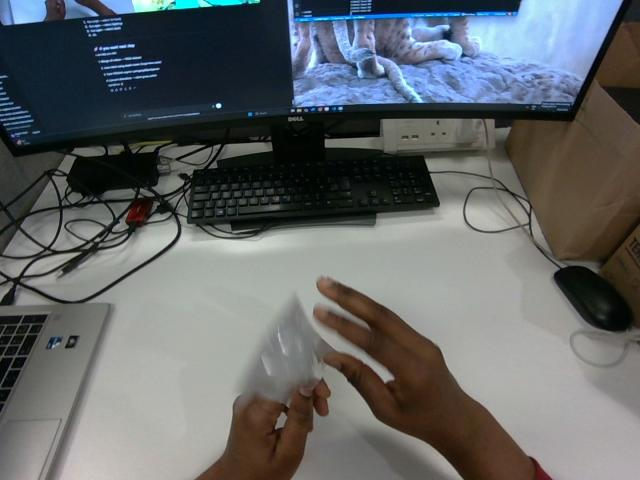syringe: (240, 296, 333, 402)
